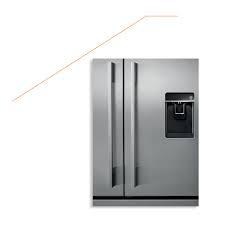handle: (106, 64, 118, 189), (128, 60, 139, 188)
